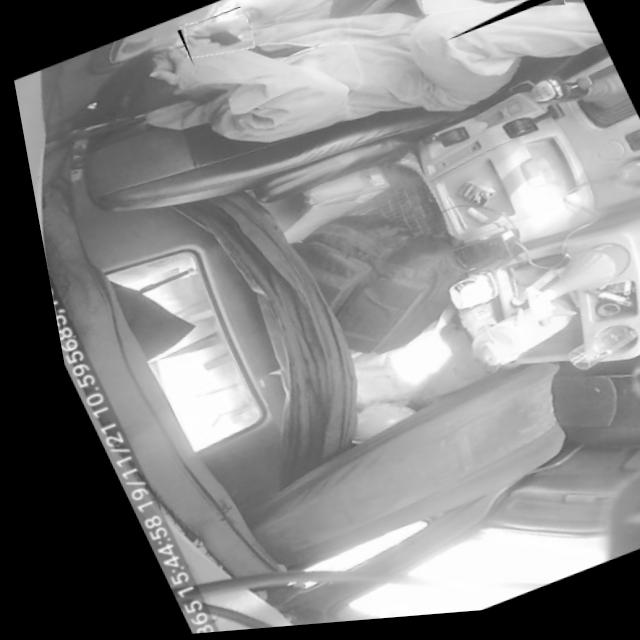phone: (172, 8, 257, 70)
wheel: (399, 0, 582, 49)
